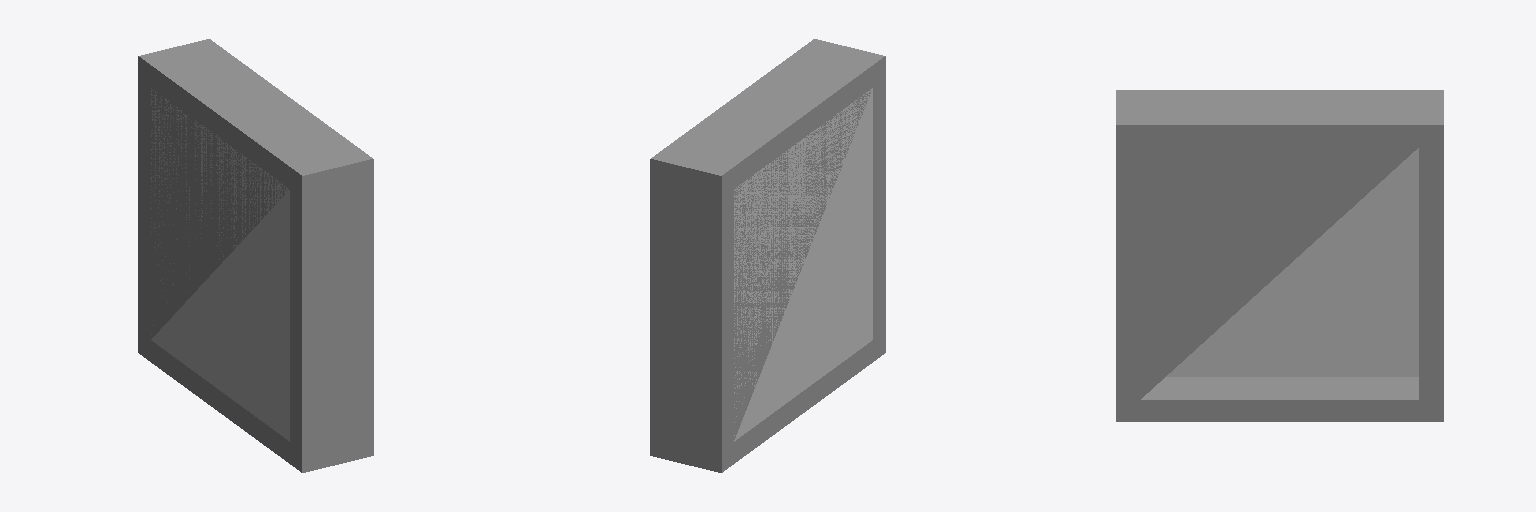
Rendered from window3.obj.
The picture shows the model from 3 angles: view 1: azimuth 30°, elevation 25°; view 2: azimuth 150°, elevation 25°; view 3: azimuth 270°, elevation 25°; orthographic projection.
Parts seen in each view (by area): view 1: window_Cube, interior_Cube.001; view 2: window_Cube, interior_Cube.001; view 3: window_Cube, interior_Cube.001.
Boxes of the visible parts, x1=… form: window_Cube: x1=138, y1=39, x2=373, y2=472; interior_Cube.001: x1=151, y1=88, x2=289, y2=441; window_Cube: x1=650, y1=39, x2=885, y2=472; interior_Cube.001: x1=734, y1=88, x2=872, y2=441; window_Cube: x1=1116, y1=90, x2=1443, y2=421; interior_Cube.001: x1=1166, y1=148, x2=1418, y2=376.
Size of the model in its own units: 0.3 by 1.2 by 1.2.